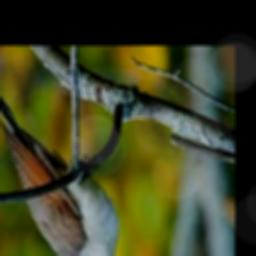Cuckoo: (0, 46, 121, 256)
